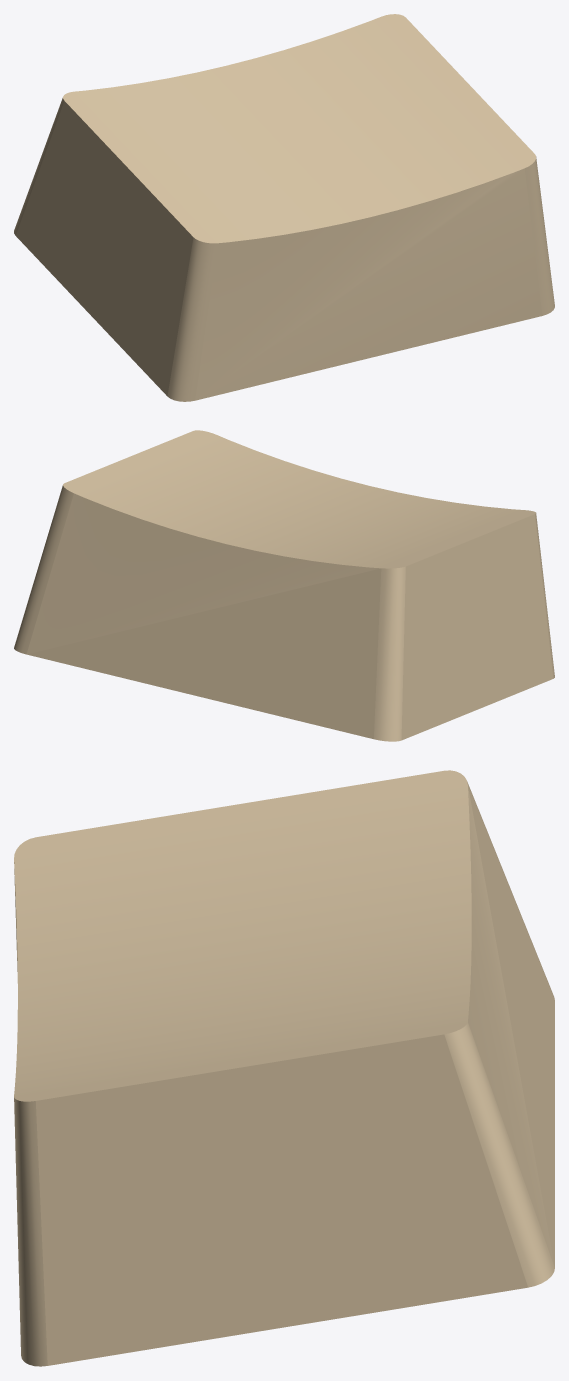
Rendered from original-21.obj.
3 renders of one model, top to bottom at view 1: azimuth 30°, elevation 25°; view 2: azimuth 150°, elevation 25°; view 3: azimuth 270°, elevation 25°, orthographic. The views are drawn at different scales.
Parts seen in each view (by area): view 1: 组件_9_1/组件_9/mesh19/mesh19-geometry#mesh19-geometry; view 2: 组件_9_1/组件_9/mesh19/mesh19-geometry#mesh19-geometry; view 3: 组件_9_1/组件_9/mesh19/mesh19-geometry#mesh19-geometry.
Boxes of the visible parts, <box> form: 组件_9_1/组件_9/mesh19/mesh19-geometry#mesh19-geometry: <box>14,14,554,401</box>; 组件_9_1/组件_9/mesh19/mesh19-geometry#mesh19-geometry: <box>14,430,554,741</box>; 组件_9_1/组件_9/mesh19/mesh19-geometry#mesh19-geometry: <box>14,770,554,1366</box>.
Bounding box in the file's own units: 0.0976 × 0.0489 × 0.0749.
